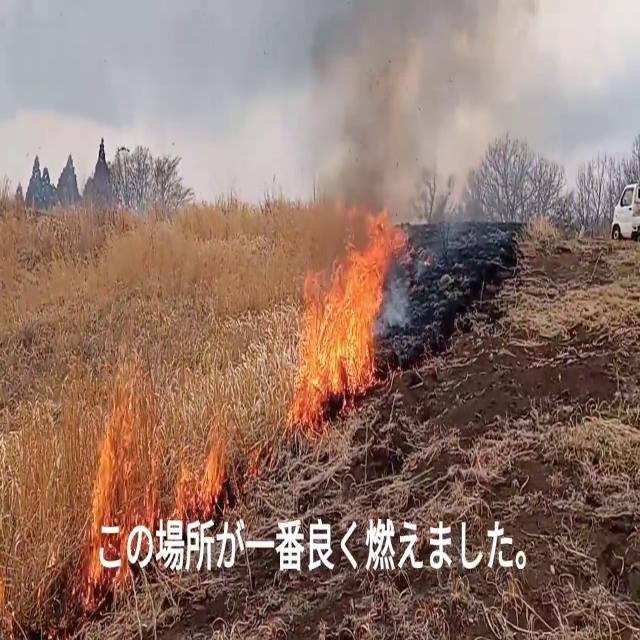Fire: (289, 205, 409, 409), (76, 380, 148, 598), (169, 404, 250, 524)
Smoke: (296, 0, 640, 246)
